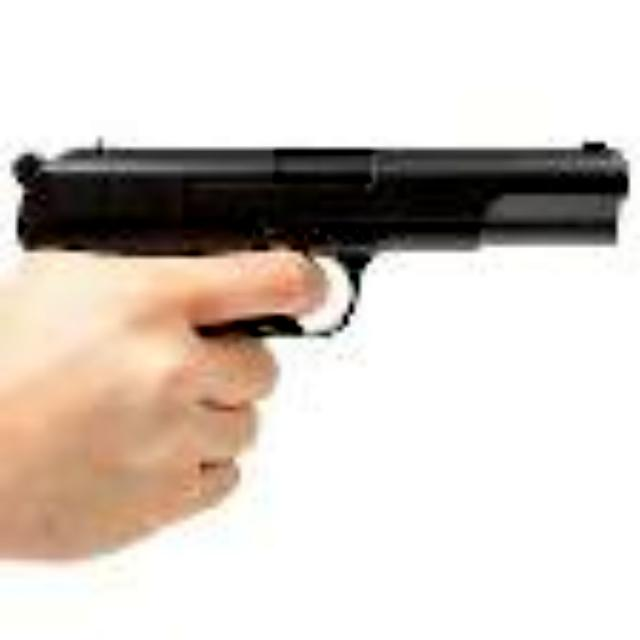pistol: (0, 140, 640, 534)
